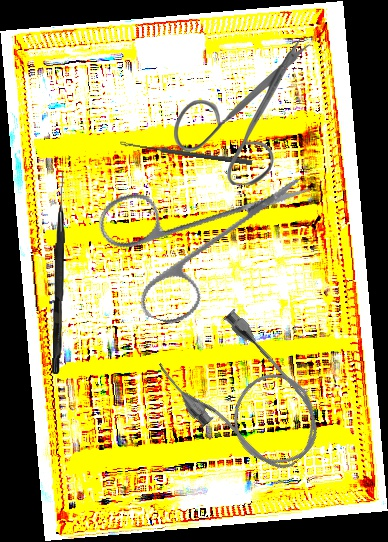Cannula: (150, 300, 341, 494)
Hook Surgical: (52, 169, 66, 375)
Iris Scissors: (75, 122, 312, 353), (174, 37, 311, 185)
Surgical Spoon: (119, 140, 253, 166)
